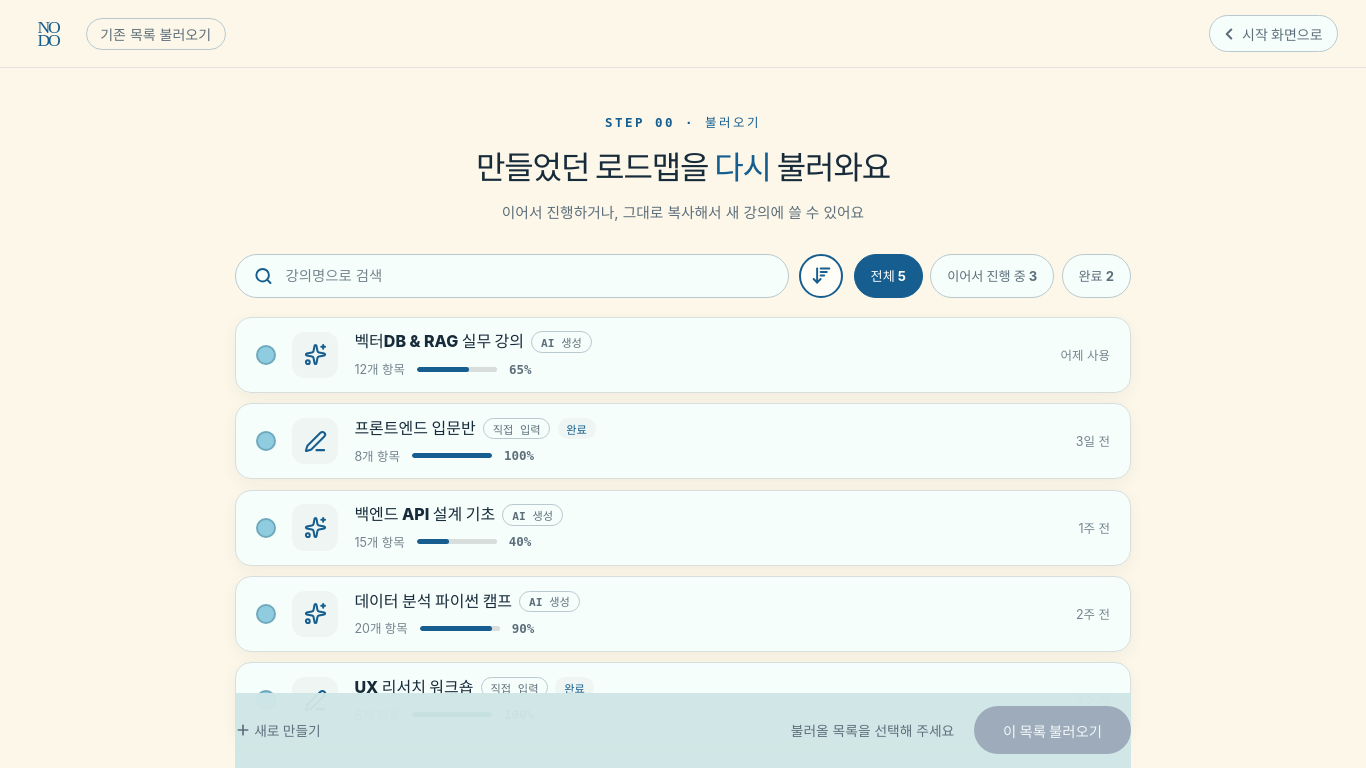
Test: ImportCoursesPage › 이어서 진행 중 필터에 해당하는 강의 3개만 표시한다
Click the button "이어서 진행 중 3": (992, 276) [930,254,1054,298]
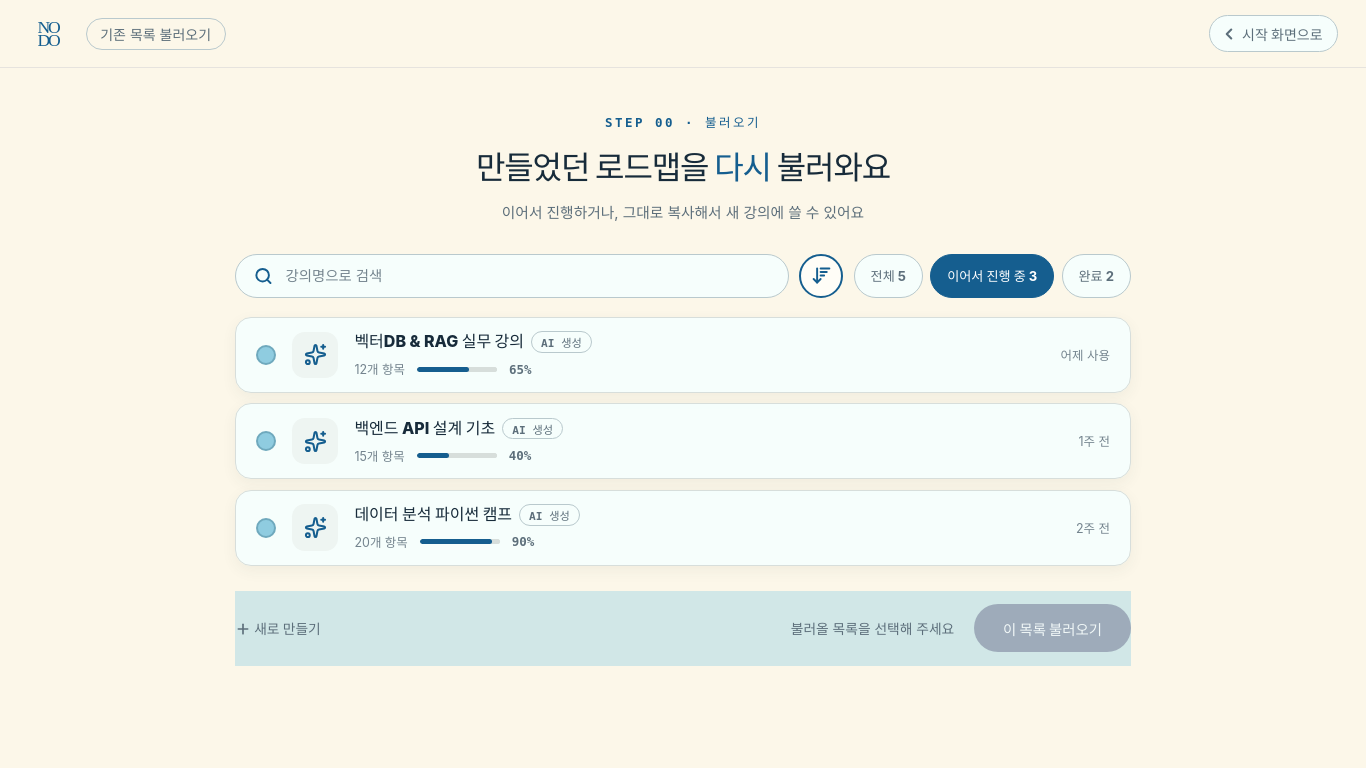
Expected: the number of radio buttons is 3, [256,345,276,365]; [256,431,276,451]; [256,518,276,538]
Expected: the text "프론트엔드 입문반" is gone
